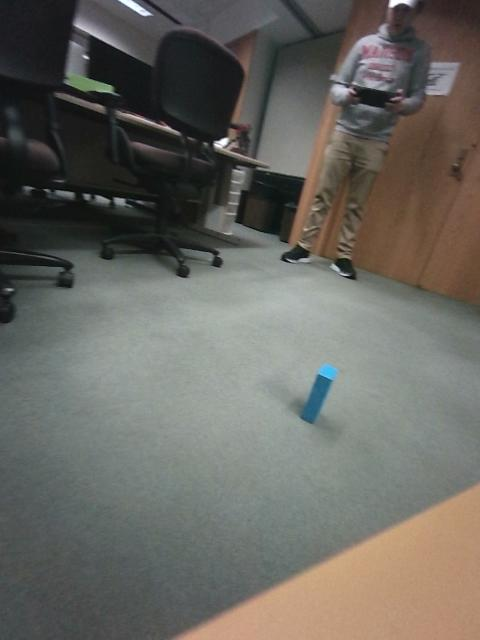block: (64, 287, 103, 358)
